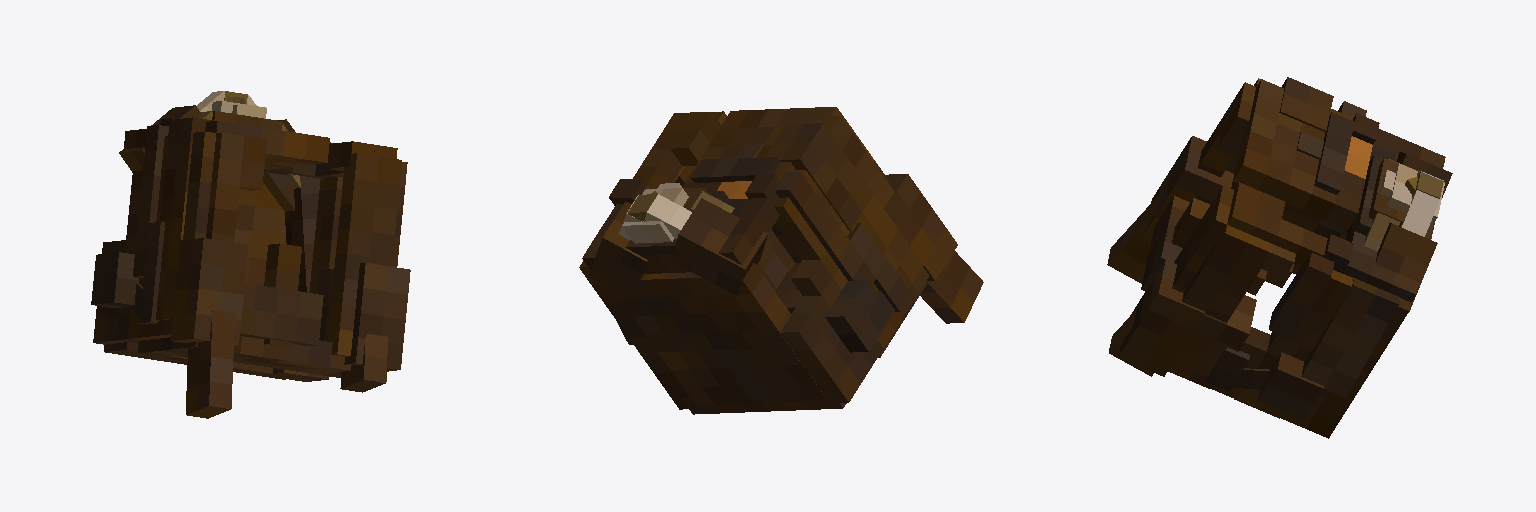
The picture shows the model from 3 angles: view 1: azimuth 30°, elevation 25°; view 2: azimuth 150°, elevation 25°; view 3: azimuth 270°, elevation 25°; orthographic projection.
Visible parts, largest first — view 1: Head; view 2: Head; view 3: Head.
Part boxes in pixels (bbox=[...]): Head: bbox=[91, 91, 410, 418]; Head: bbox=[579, 107, 983, 414]; Head: bbox=[1107, 77, 1452, 438].
Bounding box in the file's own units: 0.7586 × 0.8347 × 0.8503.
1 materials, 1 textured.